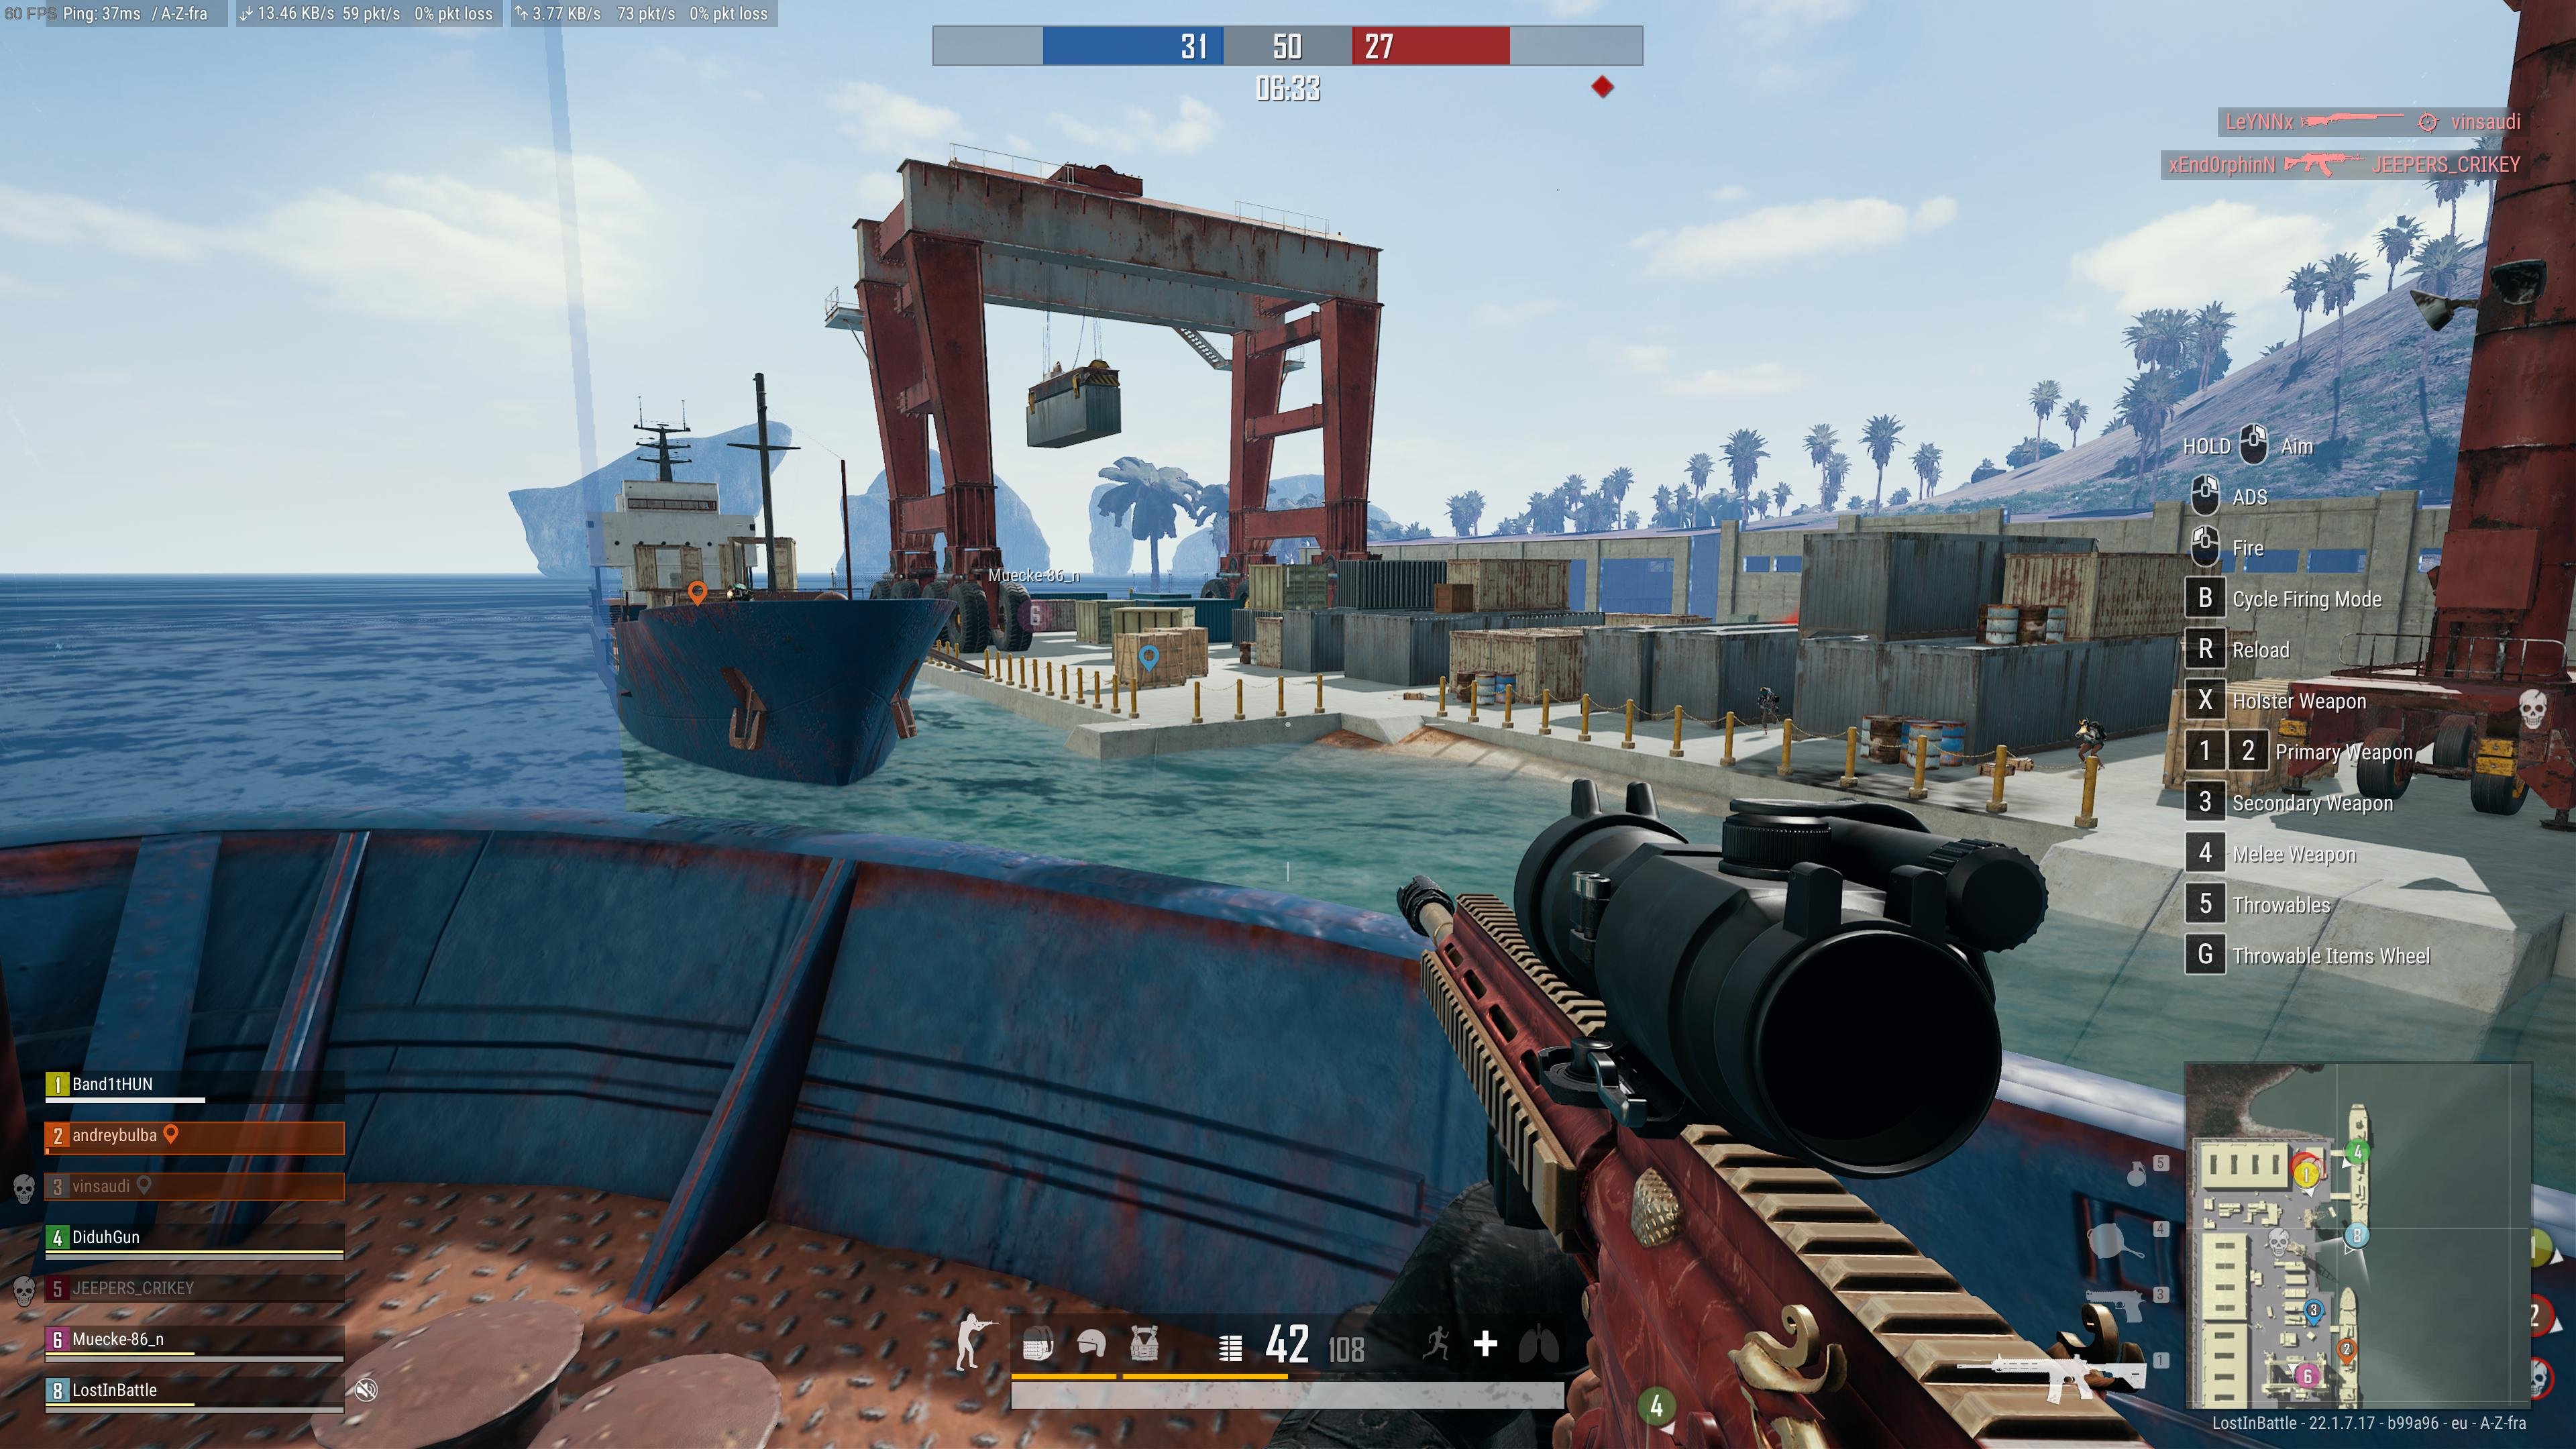enemy: (2074, 715, 2105, 768), (1757, 686, 1778, 736), (725, 582, 754, 600)
enemy_head: (2077, 717, 2089, 731), (1759, 686, 1767, 699), (727, 584, 734, 593)
